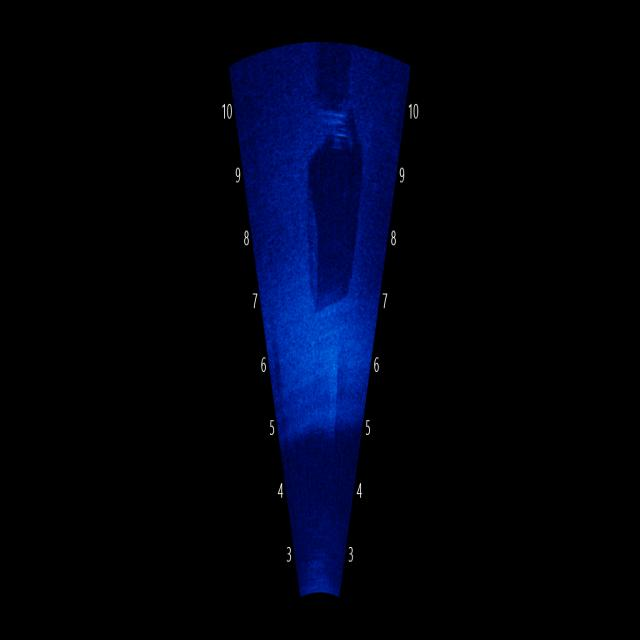square: (302, 126, 363, 325)
